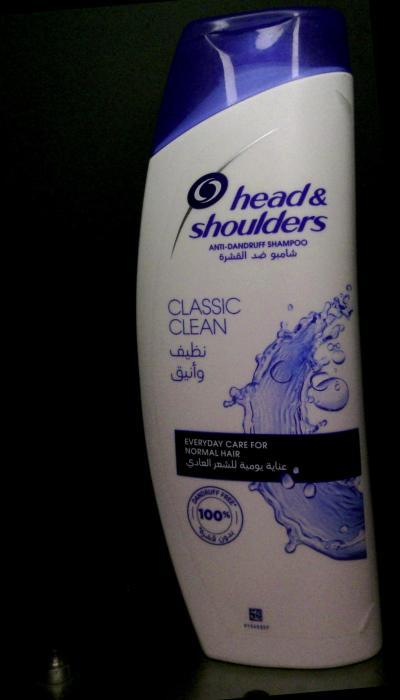adhesion_marg: (334, 596, 381, 646), (323, 83, 356, 126)
